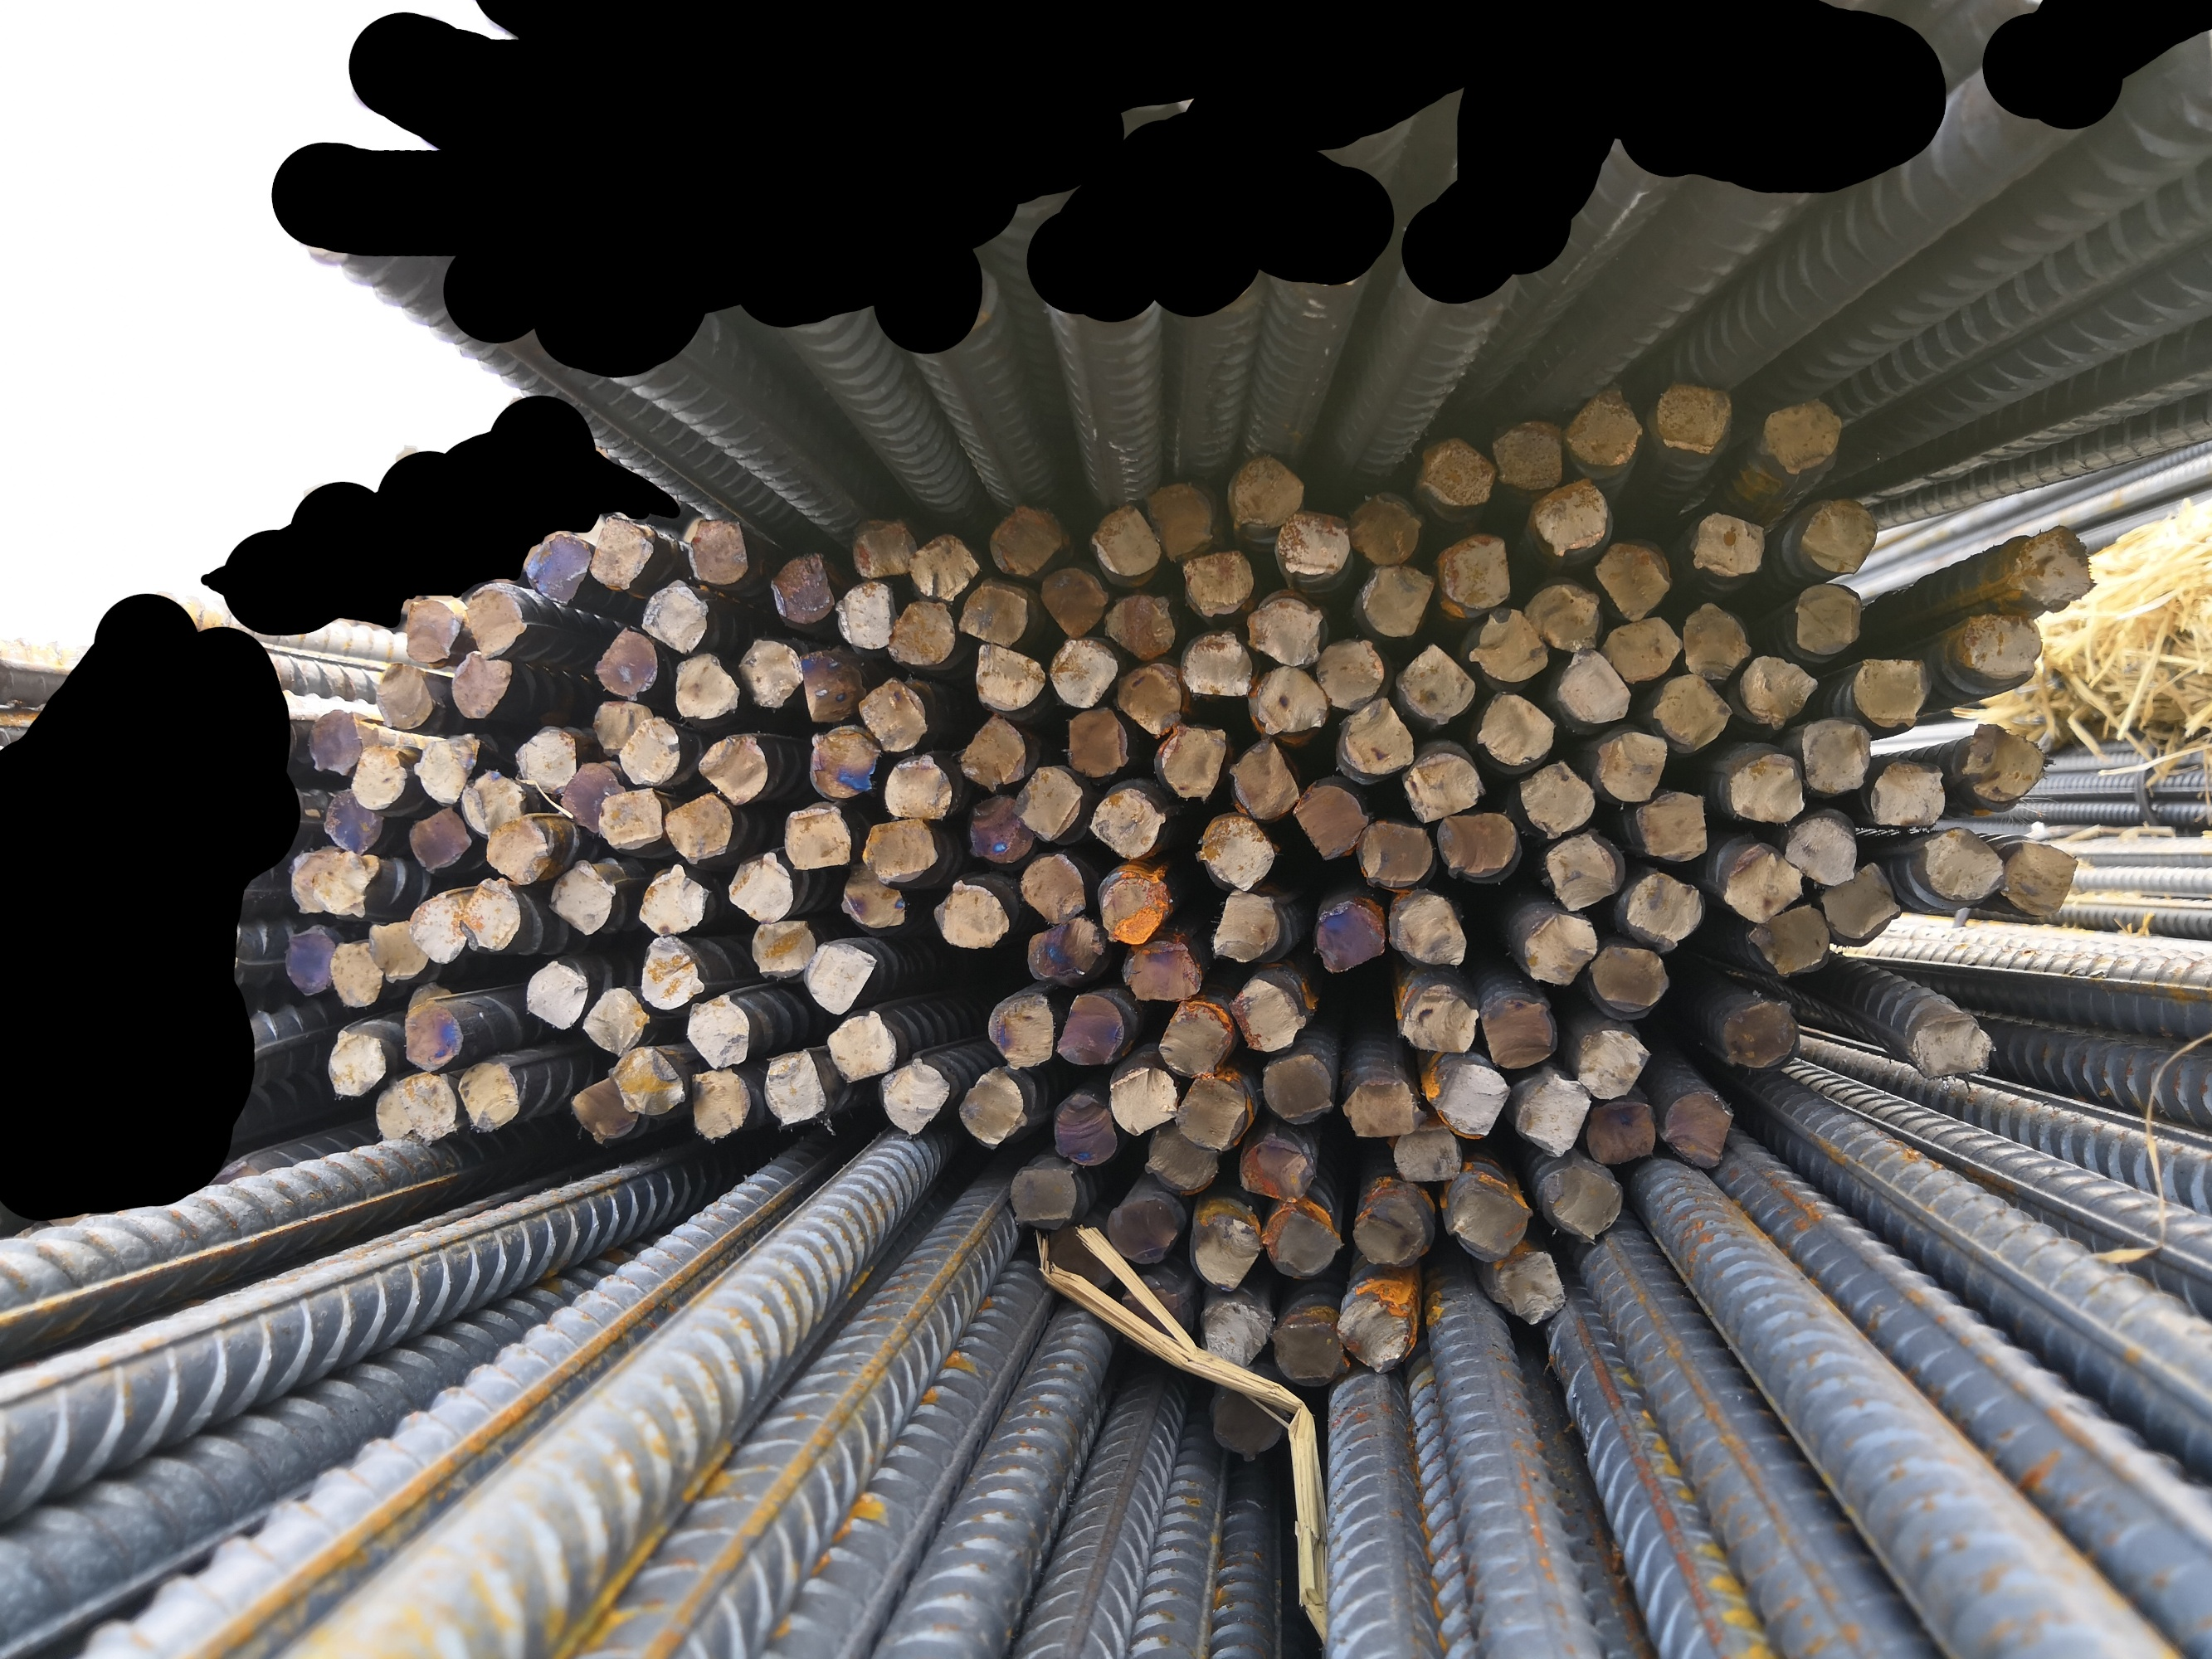rebar: (1956, 718, 2055, 810), (1811, 850, 1903, 945), (2003, 521, 2095, 610), (1504, 755, 1597, 842), (1520, 474, 1614, 559), (1537, 1157, 1626, 1246), (1560, 380, 1647, 471), (1912, 824, 2008, 906), (1717, 840, 1804, 929), (1389, 640, 1478, 727), (1330, 690, 1417, 777), (1734, 647, 1822, 734), (1759, 392, 1846, 479), (1645, 673, 1736, 756), (1954, 606, 2045, 690), (1586, 537, 1670, 626), (1255, 1202, 1347, 1283), (1466, 692, 1560, 770), (1902, 1009, 1999, 1084), (1447, 1176, 1532, 1262), (1652, 373, 1738, 458), (1192, 812, 1279, 896), (1550, 641, 1637, 725), (1171, 1066, 1253, 1155), (1618, 864, 1706, 946), (1794, 493, 1883, 575), (1719, 751, 1809, 831), (1225, 732, 1300, 828), (1081, 497, 1164, 582), (1537, 833, 1625, 915), (1586, 936, 1675, 1016), (1848, 650, 1937, 730), (1513, 1066, 1591, 1157), (1677, 596, 1755, 687), (1354, 559, 1438, 643), (1433, 1056, 1515, 1141), (1996, 836, 2081, 918), (1520, 575, 1605, 657), (1082, 784, 1170, 864), (1288, 777, 1368, 864), (1863, 753, 1951, 833), (1462, 606, 1553, 683), (957, 1061, 1032, 1154), (1593, 613, 1686, 688), (1393, 983, 1487, 1056), (1150, 995, 1234, 1077), (1245, 657, 1328, 739), (1227, 974, 1313, 1054), (1435, 526, 1515, 612), (1398, 749, 1487, 826), (798, 938, 880, 1019), (1201, 884, 1283, 965), (1518, 908, 1600, 990), (1792, 713, 1874, 795), (1227, 450, 1309, 532), (1344, 488, 1426, 570), (605, 1040, 690, 1119), (1489, 1248, 1574, 1326), (1177, 622, 1255, 708), (1187, 1209, 1264, 1297), (1473, 995, 1560, 1072), (877, 1049, 952, 1138), (1584, 730, 1673, 805), (1745, 904, 1837, 976), (990, 502, 1070, 584), (1006, 763, 1086, 845), (1109, 660, 1191, 741), (1210, 1377, 1288, 1460), (1269, 1310, 1353, 1389), (1659, 1087, 1738, 1171), (1269, 505, 1353, 584), (854, 669, 931, 755), (1309, 897, 1389, 978), (804, 723, 885, 802), (1333, 1293, 1412, 1375), (1417, 430, 1499, 509), (1487, 416, 1569, 495), (1154, 720, 1231, 803), (1232, 1131, 1320, 1204), (1239, 594, 1327, 667), (1431, 810, 1520, 882), (1788, 579, 1867, 659), (1571, 1026, 1652, 1103), (1353, 814, 1435, 890), (859, 812, 943, 887), (1388, 894, 1471, 969), (1630, 789, 1713, 864), (1175, 547, 1259, 622), (584, 511, 657, 596), (1715, 999, 1801, 1072), (634, 861, 711, 941), (1056, 704, 1137, 781), (1034, 563, 1114, 640), (818, 1009, 899, 1084), (927, 878, 1011, 951), (950, 580, 1035, 652), (959, 708, 1028, 795), (695, 730, 772, 809), (906, 526, 983, 605), (1105, 1190, 1182, 1269), (1353, 1190, 1429, 1269), (1140, 1121, 1218, 1197), (1046, 633, 1123, 711), (1311, 636, 1389, 713), (1339, 1075, 1429, 1141), (1023, 913, 1105, 986), (682, 988, 753, 1072), (1687, 511, 1771, 582), (793, 647, 868, 725), (1013, 854, 1091, 929), (967, 640, 1048, 713), (1055, 986, 1128, 1066), (1257, 1054, 1337, 1127), (985, 990, 1056, 1072), (1048, 1087, 1119, 1169), (1096, 591, 1178, 662), (455, 871, 525, 955), (1119, 939, 1206, 1006), (661, 788, 736, 864), (1006, 1157, 1081, 1234), (1105, 1063, 1182, 1138), (1783, 812, 1858, 889), (732, 633, 805, 711), (722, 847, 795, 925), (758, 1047, 830, 1127), (1143, 479, 1215, 559), (682, 1063, 751, 1145), (1198, 1297, 1272, 1371), (542, 861, 615, 938), (767, 549, 840, 626), (589, 624, 661, 702), (636, 934, 708, 1012), (1117, 1279, 1184, 1363), (879, 751, 953, 824), (1095, 871, 1168, 946), (612, 714, 683, 791), (521, 953, 591, 1032), (579, 979, 648, 1058), (525, 528, 594, 606), (1044, 1223, 1117, 1297), (413, 730, 485, 805), (446, 645, 516, 721), (453, 1060, 521, 1138), (462, 584, 528, 664), (361, 911, 432, 985), (568, 1070, 641, 1141), (669, 652, 743, 723), (319, 1026, 389, 1101), (397, 999, 467, 1073), (458, 763, 526, 840), (682, 509, 750, 586), (830, 575, 896, 653), (879, 599, 957, 666), (392, 1070, 464, 1141), (640, 584, 711, 655), (312, 850, 385, 920), (553, 762, 622, 835), (485, 814, 553, 889), (591, 786, 668, 852), (366, 659, 436, 730), (404, 802, 474, 873), (744, 913, 818, 981), (838, 863, 912, 931), (964, 796, 1037, 864), (777, 807, 852, 873), (512, 725, 580, 796), (1584, 1098, 1656, 1166), (847, 516, 920, 580), (404, 892, 465, 967), (1389, 1124, 1466, 1183), (326, 934, 383, 1012), (321, 784, 387, 852), (345, 744, 411, 812), (282, 922, 336, 1000), (401, 598, 462, 666), (305, 706, 364, 775), (589, 699, 655, 756), (288, 845, 338, 917), (373, 1082, 417, 1140), (404, 979, 455, 1021)
